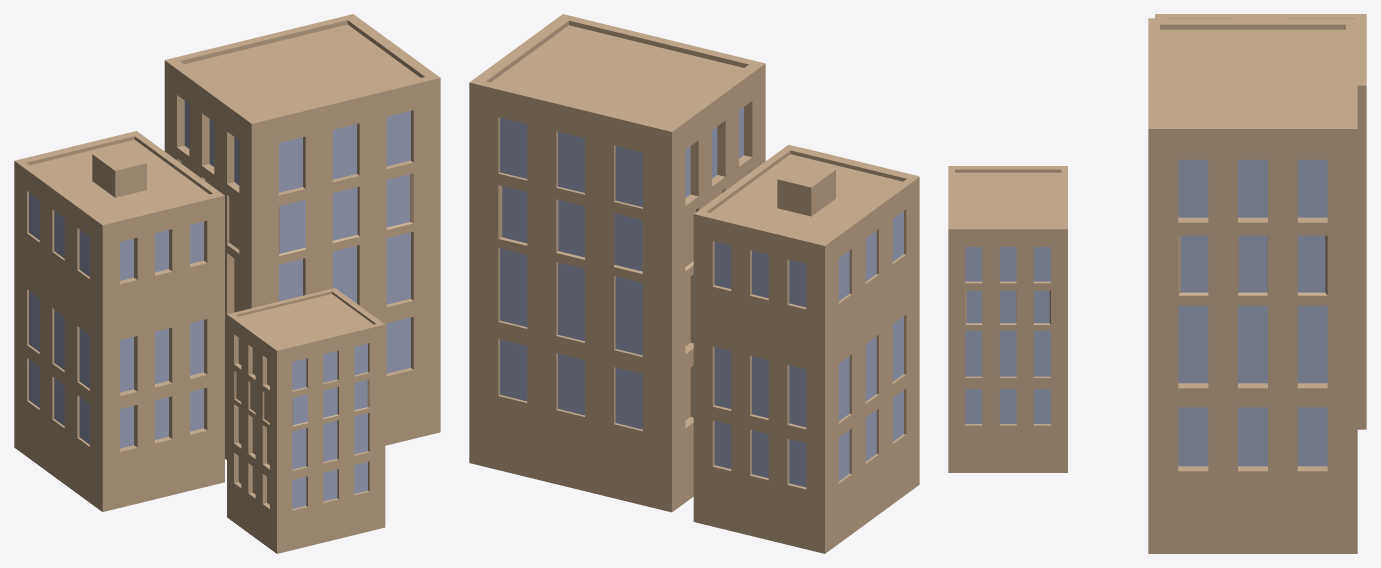
Rendered from Colapse_B_OfficeCluster_A.fbx.
3 views of the same model, side by side, from view 1: azimuth 30°, elevation 25°; view 2: azimuth 150°, elevation 25°; view 3: azimuth 270°, elevation 25° (orthographic). The views are drawn at different scales.
Parts seen in each view (by area): view 1: 1, 2, 3; view 2: 1, 2, 3; view 3: 1, 2, 3.
Boxes of the visible parts, box(x1,y1,x2,y2) form: 1: box(14, 14, 440, 365); 2: box(14, 225, 440, 474); 3: box(14, 349, 440, 553); 1: box(469, 14, 919, 373); 2: box(469, 240, 919, 447); 3: box(469, 379, 919, 553); 1: box(948, 14, 1366, 305); 2: box(948, 228, 1366, 471); 3: box(948, 311, 1366, 553).
Size of the model in its own units: 186 by 188 by 168.
